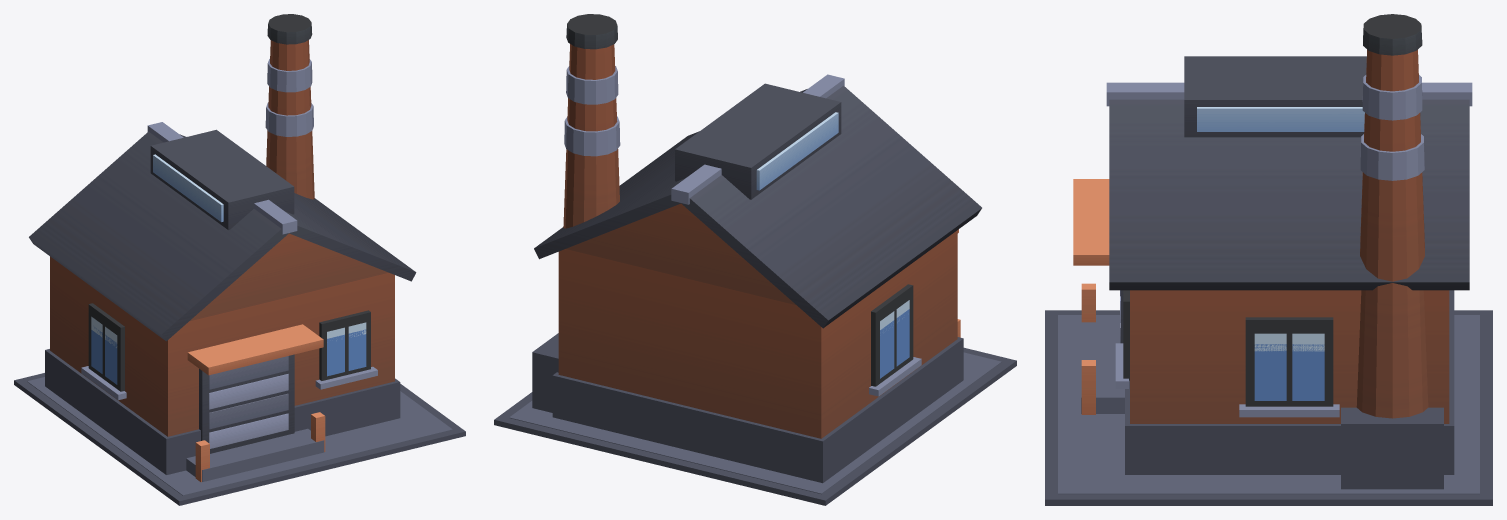
The model's file is ind_brick_workshop_1x1.glb.
3 renders of one model, left to right at view 1: azimuth 30°, elevation 25°; view 2: azimuth 150°, elevation 25°; view 3: azimuth 270°, elevation 25°, orthographic. The views are drawn at different scales.
Parts seen in each view (by area): view 1: ind_brick_workshop_1x1; view 2: ind_brick_workshop_1x1; view 3: ind_brick_workshop_1x1.
Boxes of the visible parts, x1=… form: ind_brick_workshop_1x1: x1=14, y1=14, x2=465, y2=505; ind_brick_workshop_1x1: x1=494, y1=14, x2=1016, y2=505; ind_brick_workshop_1x1: x1=1045, y1=14, x2=1492, y2=505.
Bounding box in the file's own units: 1.74 × 1.92 × 1.74.
Materials: 1 (1 with a texture image).
